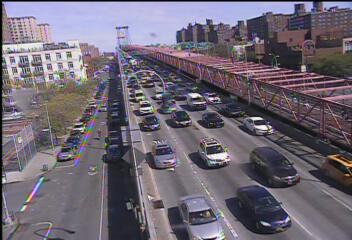neg: (9, 79, 40, 121), (117, 71, 146, 109), (7, 173, 33, 208), (260, 149, 285, 182), (211, 75, 232, 103), (233, 200, 253, 226), (331, 35, 350, 61), (34, 145, 53, 169), (156, 46, 174, 71), (242, 116, 260, 140), (270, 21, 287, 44), (211, 115, 226, 135), (49, 58, 63, 77), (8, 148, 22, 167)
